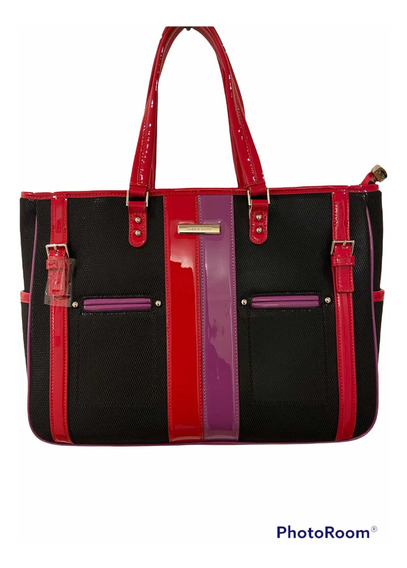cartera: (17, 26, 390, 449)
